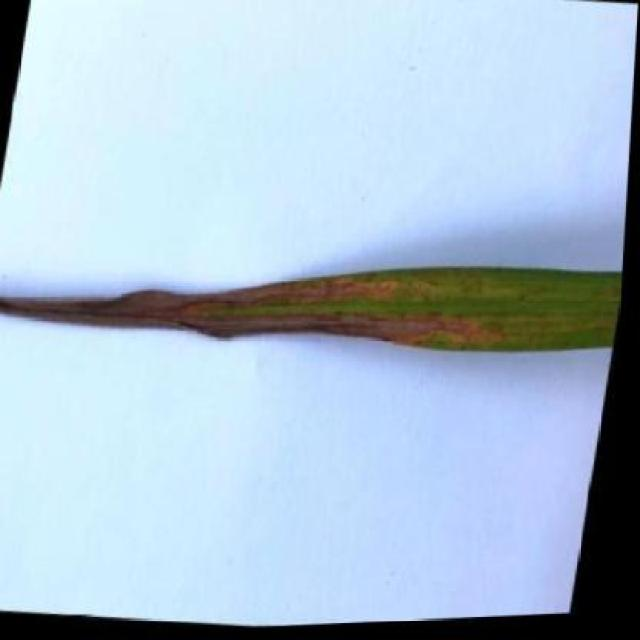Rice False Smut: (0, 205, 629, 390)
